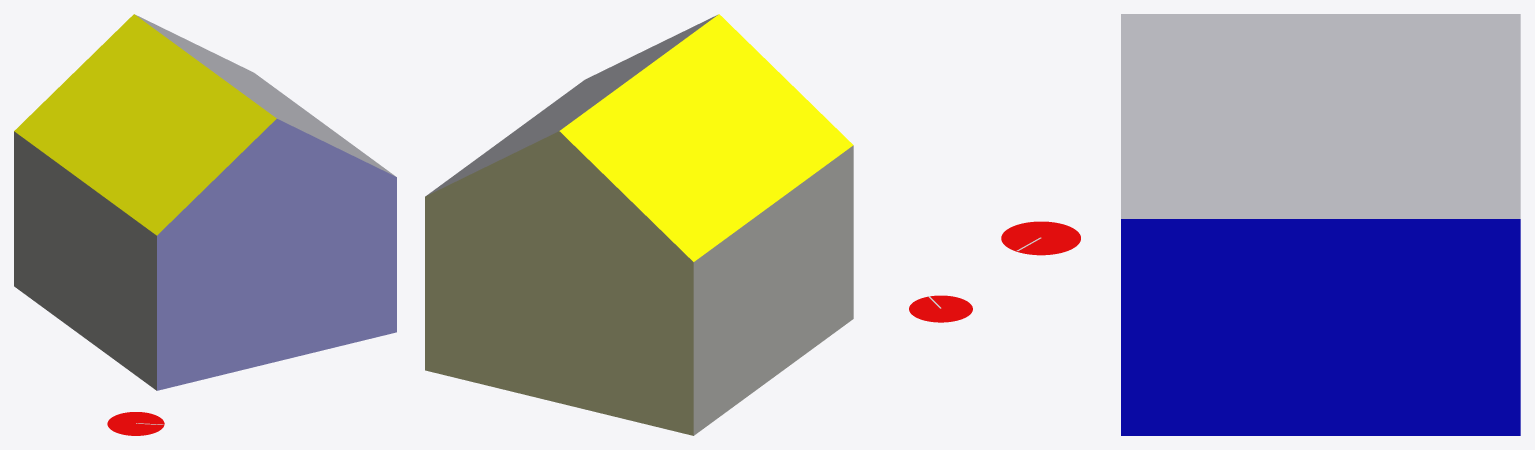
The model's file is result.glb.
3 renders of one model, left to right at view 1: azimuth 30°, elevation 25°; view 2: azimuth 150°, elevation 25°; view 3: azimuth 270°, elevation 25°, orthographic. The views are drawn at different scales.
Parts seen in each view (by area): view 1: ca6bb21b-3291-4e68-b4ab-976ef434b4f9__undefined, 02af3d21-1f46-4d2e-9fce-8b18213108c5__undefined, d53b117d-1ace-4215-bd99-06c7689732d6__undefined, 52b44b11-7e79-4da2-ba3f-10ef71e0de90__undefined, ed1f49ec-e8e6-4395-a7d4-5b3b20049471__Circle; view 2: 144ee493-459f-424c-9c83-2e562d0b8369__undefined, 02af3d21-1f46-4d2e-9fce-8b18213108c5__undefined, d53b117d-1ace-4215-bd99-06c7689732d6__undefined, 52b44b11-7e79-4da2-ba3f-10ef71e0de90__undefined, ed1f49ec-e8e6-4395-a7d4-5b3b20049471__Circle; view 3: 848dccb7-7673-405a-89e7-f8d5edb3ed5b__undefined, 52b44b11-7e79-4da2-ba3f-10ef71e0de90__undefined, ed1f49ec-e8e6-4395-a7d4-5b3b20049471__Circle.
Part boxes in pixels (x1,y1,x2,y2): ca6bb21b-3291-4e68-b4ab-976ef434b4f9__undefined: (157,119,396,390); 02af3d21-1f46-4d2e-9fce-8b18213108c5__undefined: (14,14,276,235); d53b117d-1ace-4215-bd99-06c7689732d6__undefined: (14,131,156,390); 52b44b11-7e79-4da2-ba3f-10ef71e0de90__undefined: (136,15,395,176); ed1f49ec-e8e6-4395-a7d4-5b3b20049471__Circle: (107,412,164,435); 144ee493-459f-424c-9c83-2e562d0b8369__undefined: (425,131,693,435); 02af3d21-1f46-4d2e-9fce-8b18213108c5__undefined: (559,14,853,261); d53b117d-1ace-4215-bd99-06c7689732d6__undefined: (693,145,853,435); 52b44b11-7e79-4da2-ba3f-10ef71e0de90__undefined: (426,15,717,195); ed1f49ec-e8e6-4395-a7d4-5b3b20049471__Circle: (909,295,972,322); 848dccb7-7673-405a-89e7-f8d5edb3ed5b__undefined: (1121,219,1520,435); 52b44b11-7e79-4da2-ba3f-10ef71e0de90__undefined: (1121,14,1520,218); ed1f49ec-e8e6-4395-a7d4-5b3b20049471__Circle: (1001,221,1080,255).
Bounding box in the file's own units: 635 × 469 × 650.
